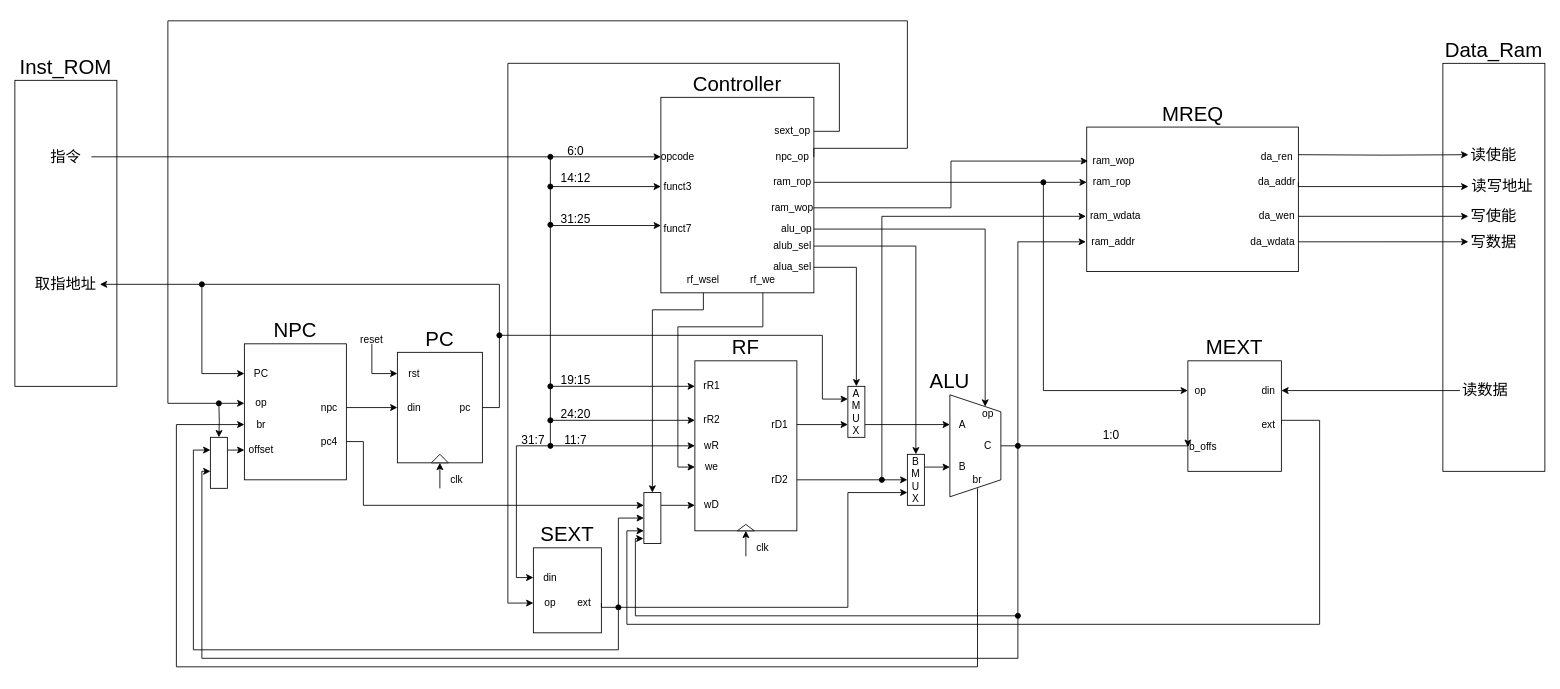
Some shapes in this 1560 by 689 pixel diagram are drawn without their labels. The shapes that lost their labels are listed below. From the top down, each one's box as (x1, y1, x2, y2) in pixels, then its label:
(210, 436, 227, 488): off M U X
(643, 492, 661, 544): WB M U X
